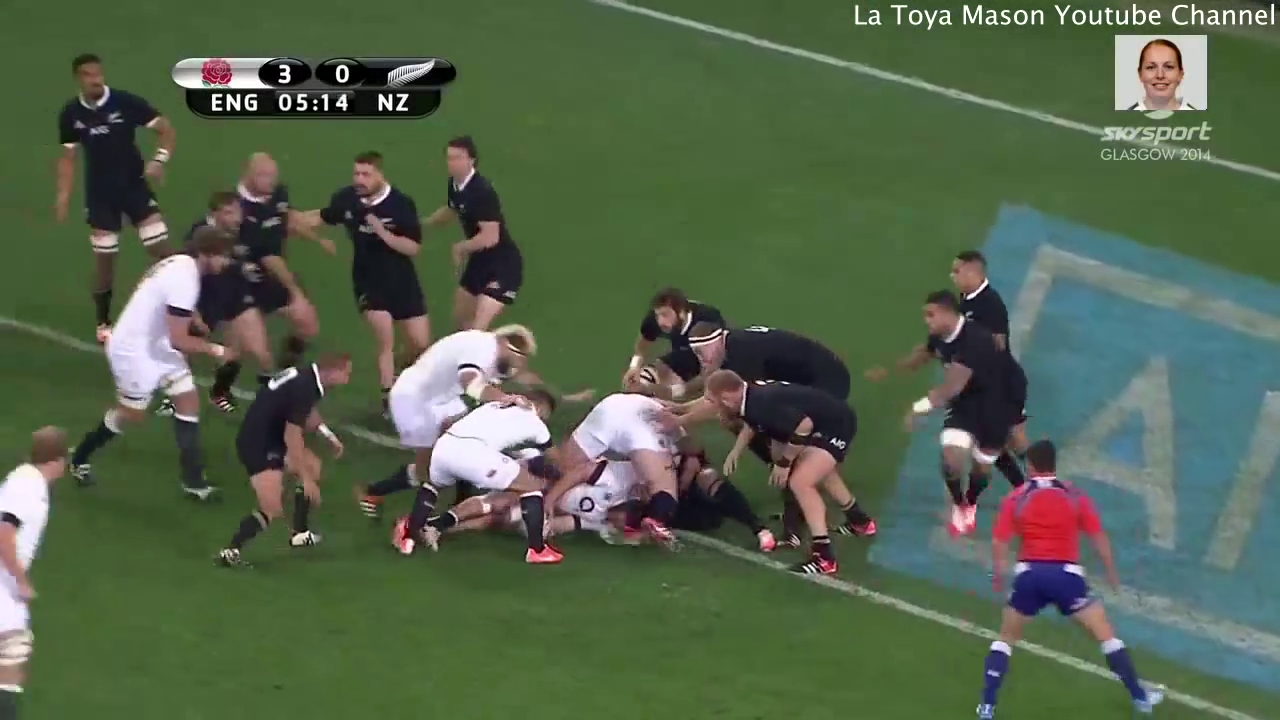player: (968, 432, 1179, 720), (63, 212, 234, 494), (39, 39, 192, 349), (697, 363, 888, 587), (349, 308, 541, 530), (187, 344, 356, 583), (282, 148, 439, 384), (376, 387, 576, 568), (549, 378, 708, 584), (904, 282, 1025, 539), (219, 143, 339, 360), (411, 127, 532, 340), (1, 410, 83, 720), (942, 244, 1033, 508), (680, 312, 865, 432), (182, 185, 278, 404), (608, 280, 736, 402)
